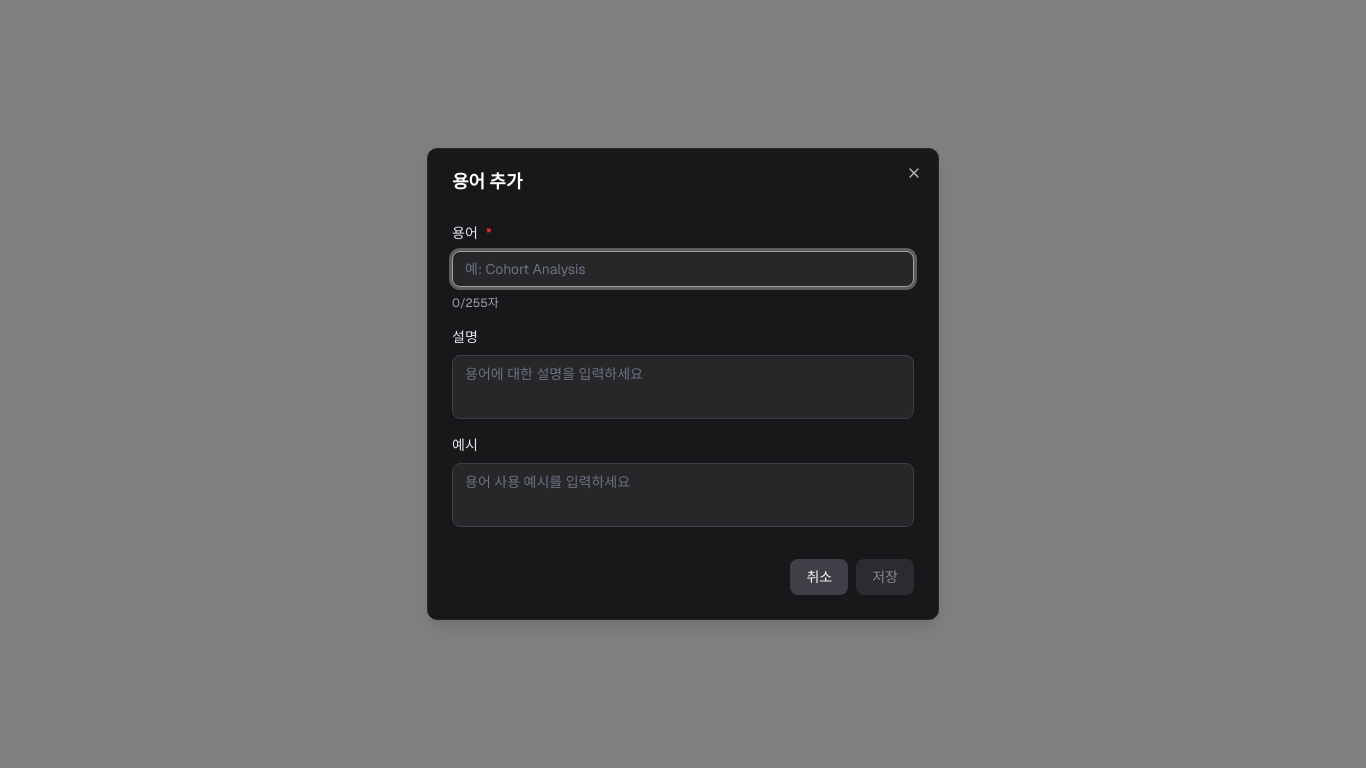
Test: NoteEditModal › 버튼 상태 › 저장 중에는 저장 버튼이 비활성화된다
This screenshot has width=1366, height=768.
Type "Test Term" into the field with placeholder "예: Cohort Analysis".
click(683, 269); type("Test Term")  # box [452, 251, 914, 287]
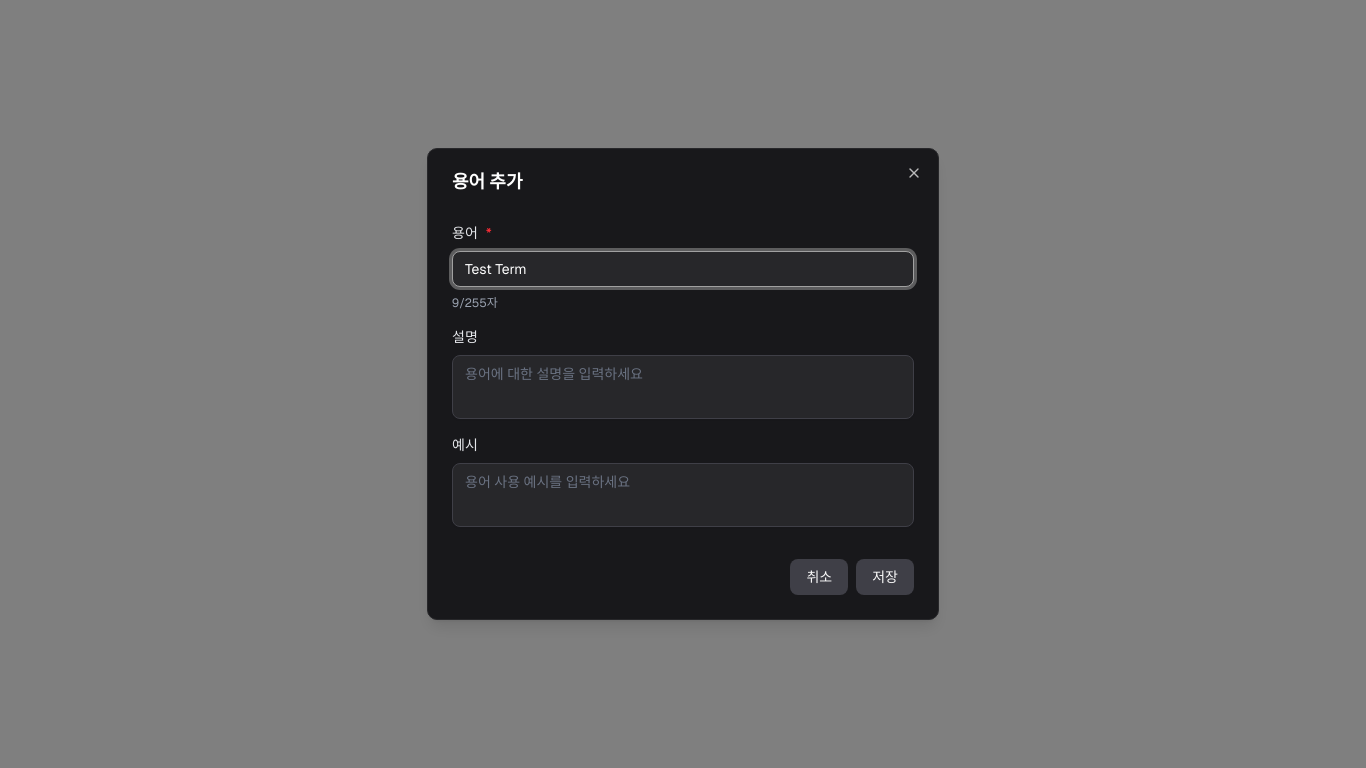
Click the button "저장".
click(885, 577)  # box [856, 559, 914, 595]
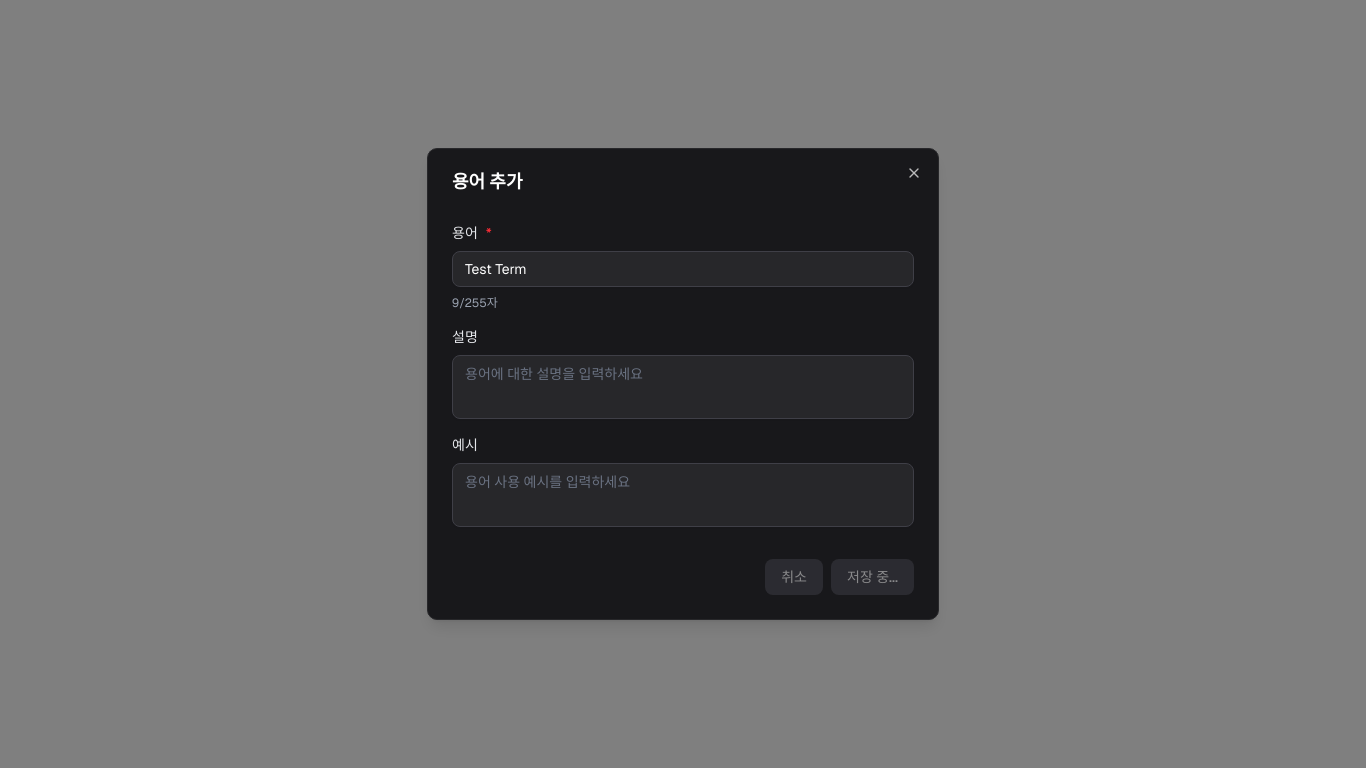
expect the button "저장 중..." is disabled: met, box [831, 559, 914, 595]
